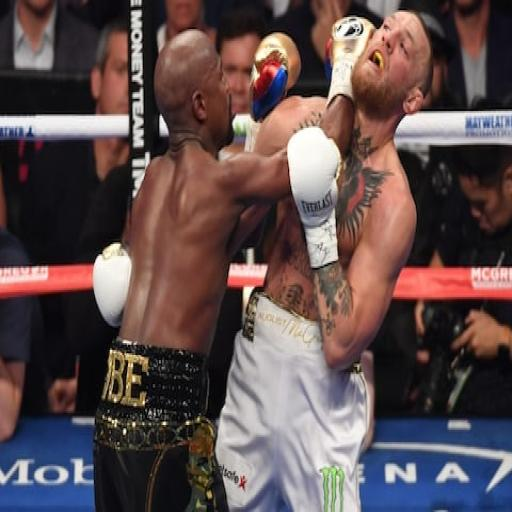boxing: (202, 0, 446, 509), (102, 17, 262, 512)
